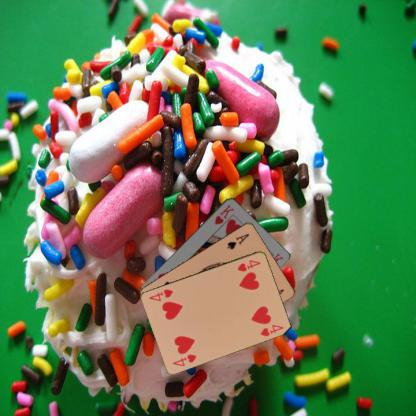4h: (234, 257, 262, 273), (171, 352, 198, 368)
As: (225, 230, 251, 250)
Kh: (212, 202, 236, 225)
